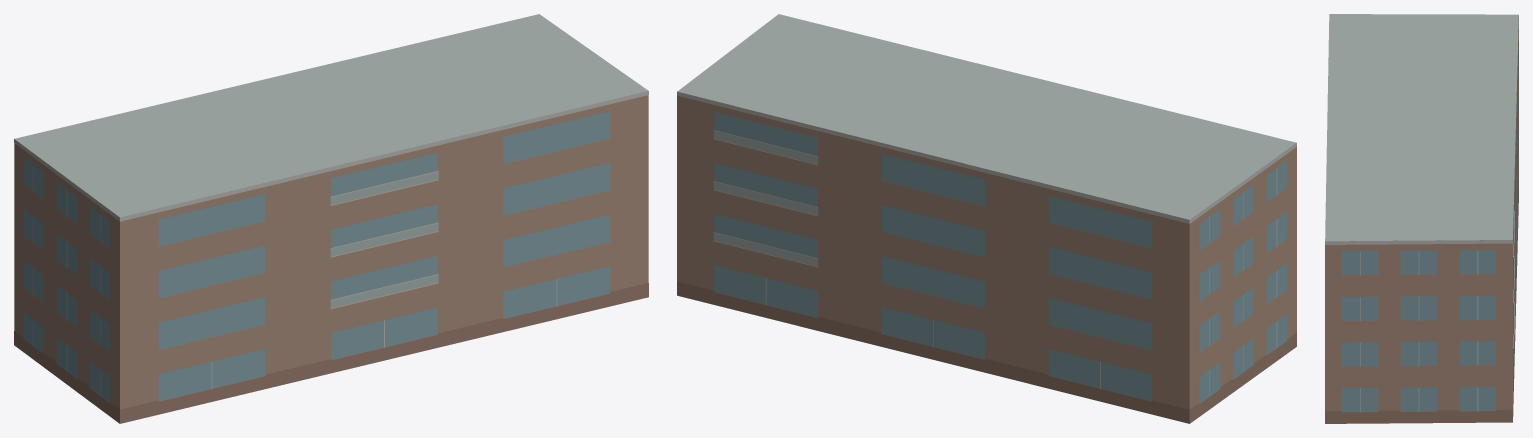
Rendered from survey-upis-32869123.glb.
The picture shows the model from 3 angles, left to right: view 1: azimuth 30°, elevation 25°; view 2: azimuth 150°, elevation 25°; view 3: azimuth 270°, elevation 25°; orthographic projection. The views are drawn at different scales.
Visible parts, largest first — view 1: survey-upis-32869123.tmp; view 2: survey-upis-32869123.tmp; view 3: survey-upis-32869123.tmp.
Part boxes in pixels (x1,y1,x2,y2): survey-upis-32869123.tmp: [14, 14, 648, 423]; survey-upis-32869123.tmp: [677, 14, 1296, 423]; survey-upis-32869123.tmp: [1325, 14, 1518, 423].
Size of the model in its own units: 32.58 by 12.2 by 11.75.
